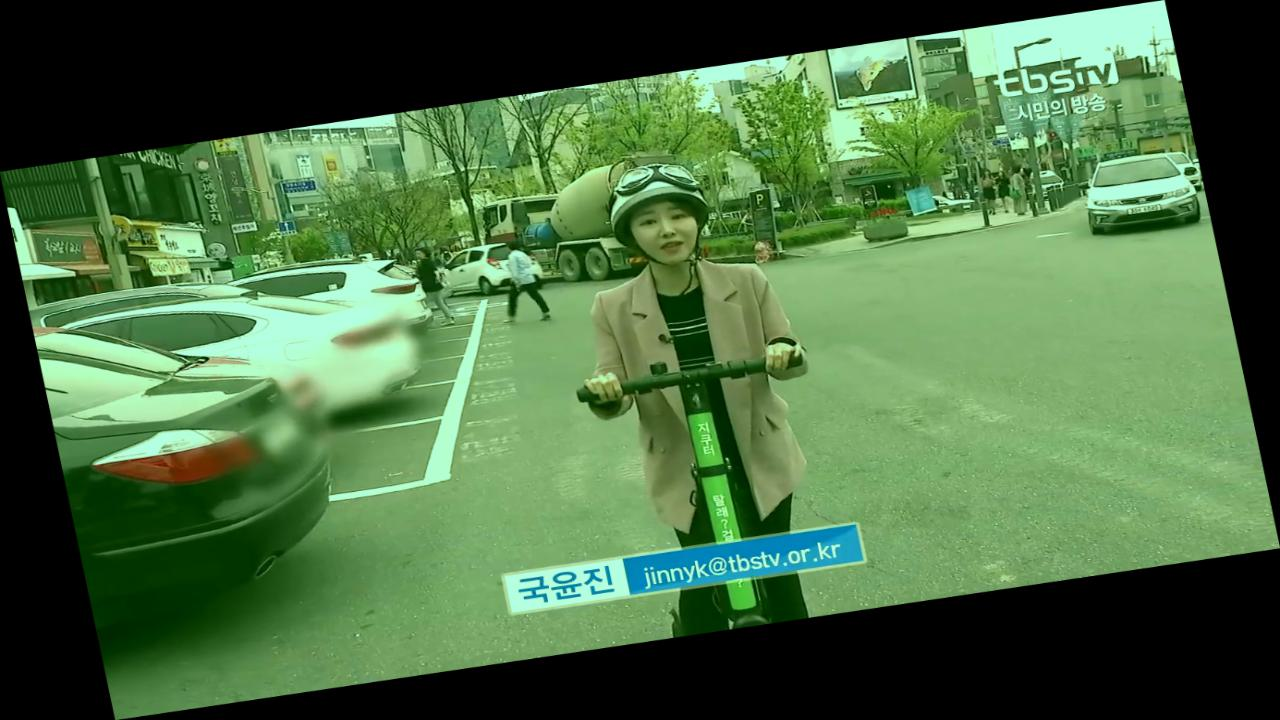helmet: (526, 145, 867, 645)
